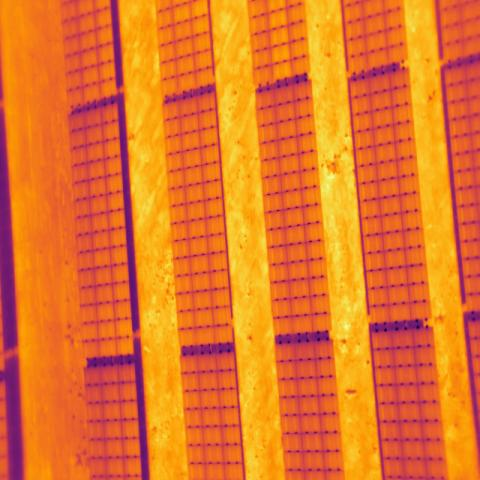fault: (268, 0, 292, 83)
